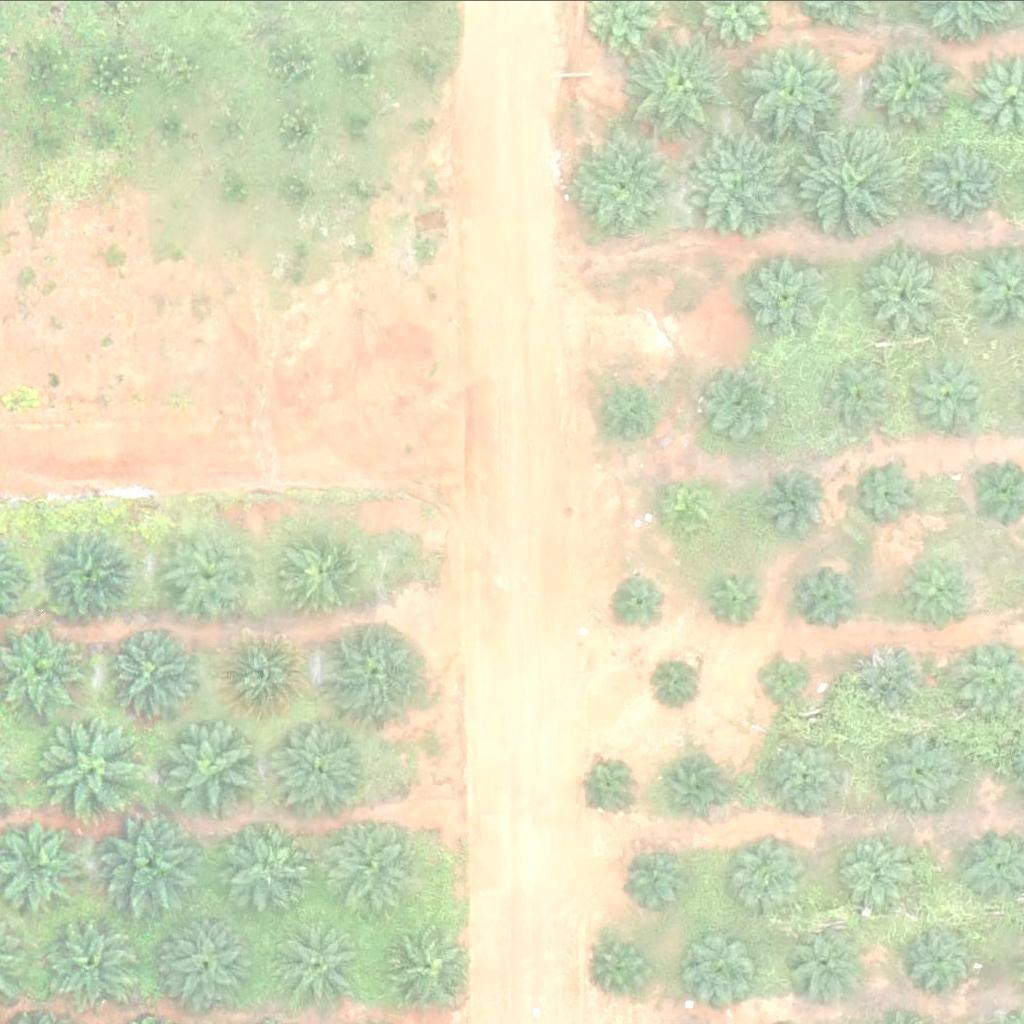Kelapa_Sawit: (687, 121, 801, 234), (794, 115, 908, 228), (43, 712, 144, 812), (103, 813, 204, 913), (42, 911, 143, 1011), (158, 913, 259, 1013), (316, 816, 417, 916), (164, 714, 265, 814), (268, 716, 369, 816), (322, 617, 423, 717), (574, 133, 675, 233), (625, 35, 726, 135), (745, 35, 845, 135), (874, 726, 962, 814), (105, 628, 193, 716), (272, 917, 360, 1005), (382, 920, 470, 1008), (216, 628, 304, 716), (279, 523, 367, 611), (42, 529, 130, 616), (168, 530, 256, 617), (219, 814, 307, 901), (836, 835, 912, 910), (784, 925, 860, 1000), (903, 920, 979, 995), (817, 352, 893, 427), (707, 368, 783, 443), (868, 254, 944, 329), (748, 259, 824, 334), (921, 139, 997, 214), (874, 47, 950, 122), (687, 927, 762, 1002), (729, 834, 804, 909), (773, 736, 848, 811), (908, 352, 983, 427), (858, 637, 933, 712), (763, 465, 838, 540), (853, 451, 928, 526), (577, 754, 640, 817), (666, 753, 729, 816), (906, 556, 969, 619), (661, 479, 724, 542), (599, 387, 662, 450), (593, 935, 656, 997), (626, 845, 689, 907), (608, 570, 671, 632), (708, 566, 771, 628), (795, 566, 858, 628), (652, 652, 703, 702), (758, 653, 809, 703)
